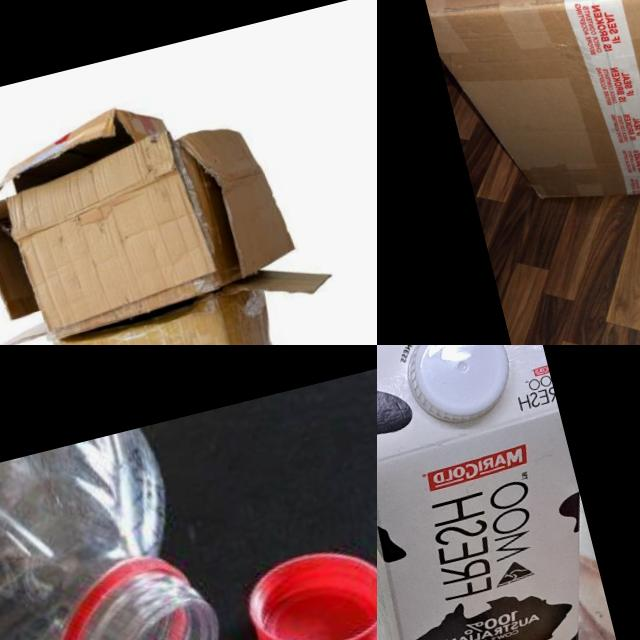caixinha: (377, 345, 628, 640)
garrafa plástica: (0, 419, 239, 640)
papelão: (0, 106, 303, 345), (398, 0, 640, 248), (0, 250, 354, 345), (0, 92, 178, 202)
tampa plástica: (236, 532, 377, 640), (397, 345, 517, 434)
